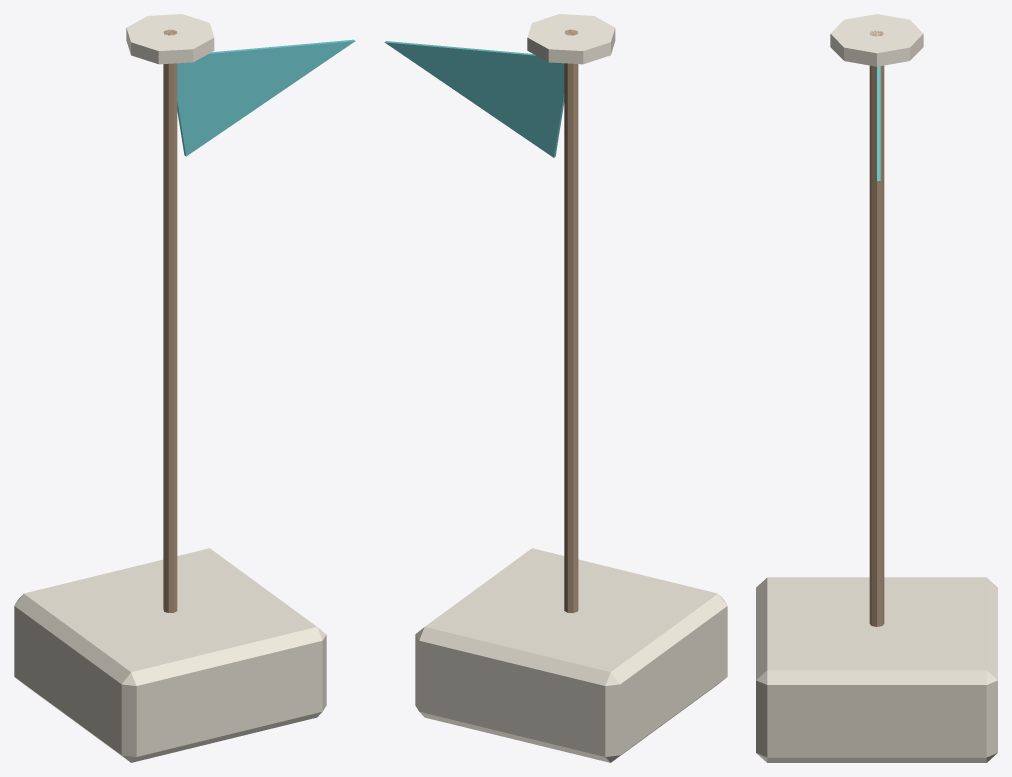
Rendered from customs_flagpole_far-D_fscRix.glb.
3 views of the same model, side by side, from view 1: azimuth 30°, elevation 25°; view 2: azimuth 150°, elevation 25°; view 3: azimuth 270°, elevation 25° (orthographic). The views are drawn at different scales.
Visible parts, largest first — view 1: customs_flagpole_far; view 2: customs_flagpole_far; view 3: customs_flagpole_far.
Part boxes in pixels (bbox=[...]): customs_flagpole_far: bbox=[14, 14, 355, 762]; customs_flagpole_far: bbox=[384, 14, 727, 762]; customs_flagpole_far: bbox=[756, 14, 997, 762].
Bounding box in the file's own units: 3.65 × 8.1 × 2.6.
